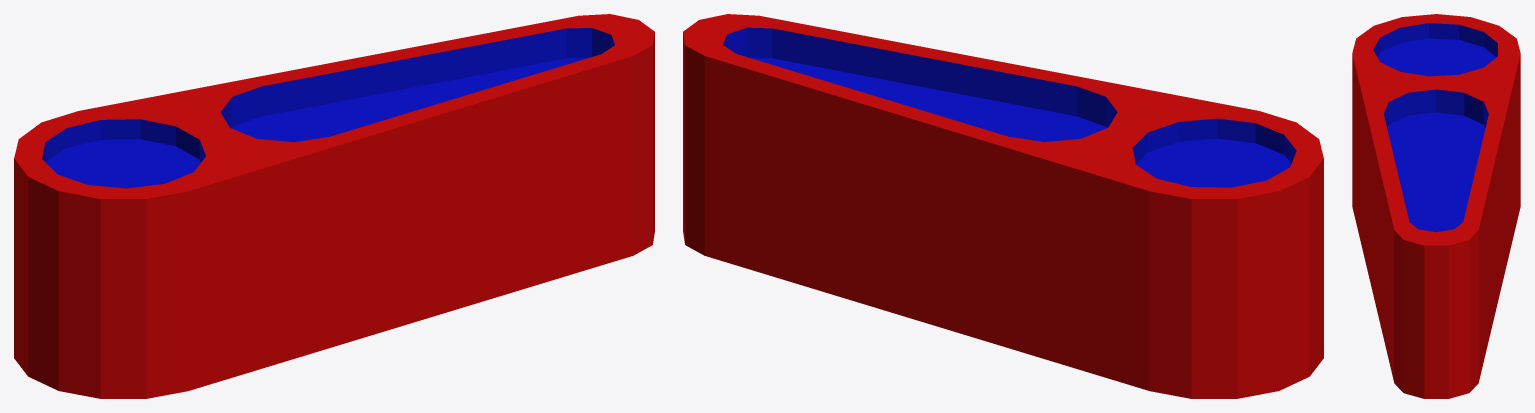
File: HINDERNIS.fbx
The picture shows the model from 3 angles, left to right: view 1: azimuth 30°, elevation 25°; view 2: azimuth 150°, elevation 25°; view 3: azimuth 270°, elevation 25°; orthographic projection. The views are drawn at different scales.
Parts seen in each view (by area): view 1: Hindernis1; view 2: Hindernis1; view 3: Hindernis1.
Part boxes in pixels (x1,y1,x2,y2): Hindernis1: (14, 14, 654, 398); Hindernis1: (683, 14, 1323, 398); Hindernis1: (1352, 14, 1520, 398).
Bounding box in the file's own units: 255 × 78.74 × 78.35.
